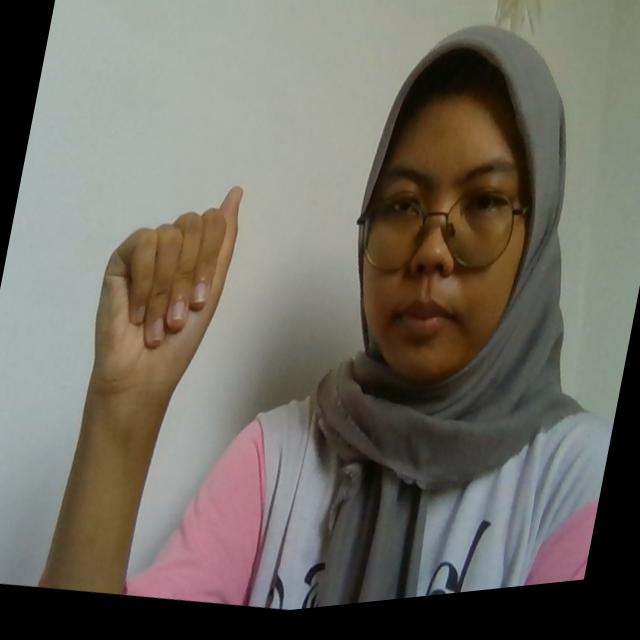A: (82, 167, 248, 415)
